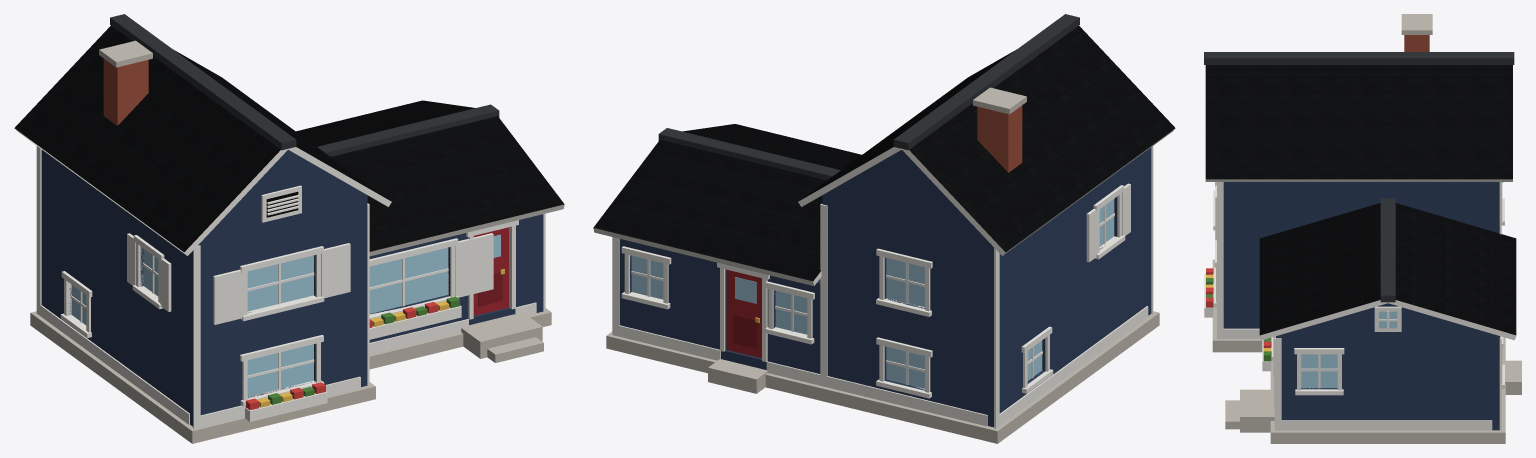
The model's file is base-06-level1.glb.
3 views of the same model, side by side, from view 1: azimuth 30°, elevation 25°; view 2: azimuth 150°, elevation 25°; view 3: azimuth 270°, elevation 25° (orthographic). The views are drawn at different scales.
Parts seen in each view (by area): view 1: base_house_6_finished; view 2: base_house_6_finished; view 3: base_house_6_finished.
Part boxes in pixels (x1,y1,x2,y2): base_house_6_finished: (14,14,564,443); base_house_6_finished: (593,14,1175,443); base_house_6_finished: (1204,14,1521,443).
Size of the model in its own units: 11.89 by 8.23 by 8.79.
Materials: 15 (1 with a texture image).
